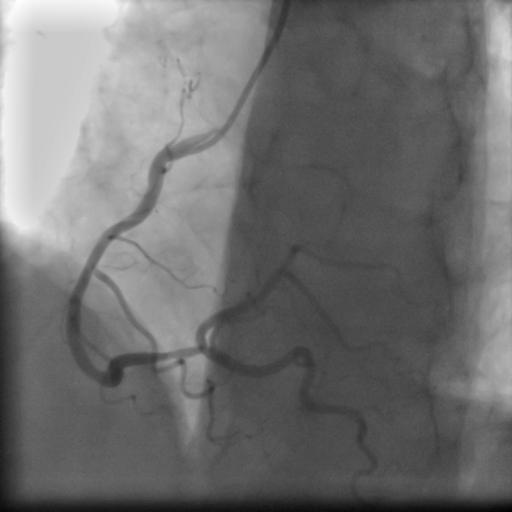Stenosis: (157, 341, 195, 362)
